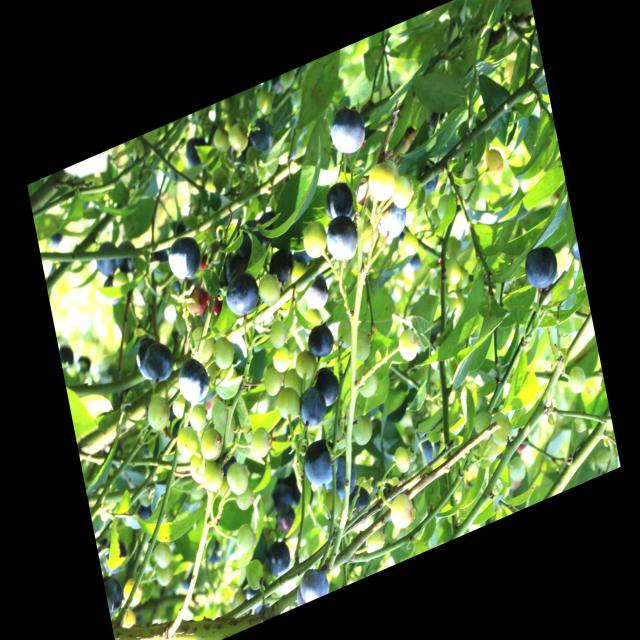blueberry: (326, 102, 370, 163), (298, 434, 342, 494), (220, 267, 264, 322), (520, 238, 560, 295), (319, 450, 360, 505), (165, 232, 205, 286), (174, 351, 211, 407), (322, 213, 360, 266), (340, 478, 378, 529), (322, 177, 358, 226), (374, 198, 410, 245), (294, 562, 332, 604), (142, 338, 176, 384), (296, 384, 327, 431), (313, 361, 342, 408), (305, 320, 335, 363), (264, 537, 293, 580), (303, 270, 332, 313), (268, 243, 296, 287), (92, 236, 120, 279), (415, 157, 443, 200), (247, 116, 277, 156), (182, 134, 209, 172), (267, 482, 293, 521), (225, 139, 252, 175), (113, 238, 137, 276), (134, 492, 154, 524)
blueberry-halfripe: (184, 282, 211, 321), (208, 286, 228, 318)
blueberry-unripe: (364, 156, 399, 208), (387, 488, 419, 534), (143, 390, 174, 435), (188, 322, 218, 367), (273, 382, 303, 426), (301, 220, 329, 264), (486, 409, 513, 454), (255, 270, 284, 311), (348, 410, 376, 451), (394, 322, 420, 366), (389, 172, 417, 212), (473, 431, 500, 472), (224, 460, 252, 499), (209, 332, 237, 371), (198, 424, 225, 464), (173, 423, 200, 462), (361, 522, 388, 561), (249, 422, 275, 462), (319, 486, 345, 526), (266, 316, 292, 354), (481, 144, 506, 183), (292, 347, 318, 384), (332, 314, 356, 354), (390, 439, 414, 479), (120, 575, 145, 612), (354, 364, 379, 401), (234, 518, 258, 556), (200, 456, 224, 494), (349, 327, 373, 365), (442, 288, 467, 324), (242, 556, 266, 593), (150, 536, 174, 572), (261, 363, 283, 402), (227, 120, 250, 156), (188, 451, 209, 489), (210, 123, 232, 158), (271, 344, 293, 378), (471, 407, 494, 439), (187, 400, 209, 433), (282, 364, 303, 398), (443, 257, 464, 291), (507, 451, 528, 485), (208, 398, 230, 430), (234, 484, 257, 514), (153, 560, 174, 590), (400, 230, 420, 260), (118, 606, 138, 635), (170, 392, 189, 420), (218, 475, 233, 501), (116, 639, 130, 640)
